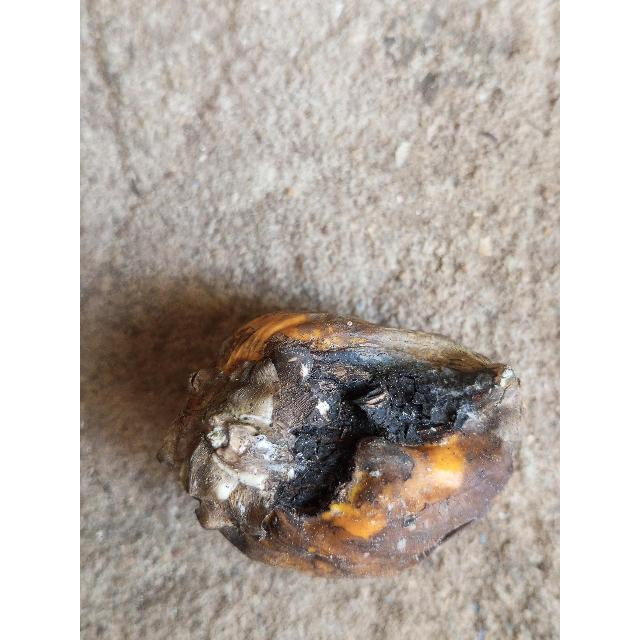damaged: (159, 312, 521, 577)
